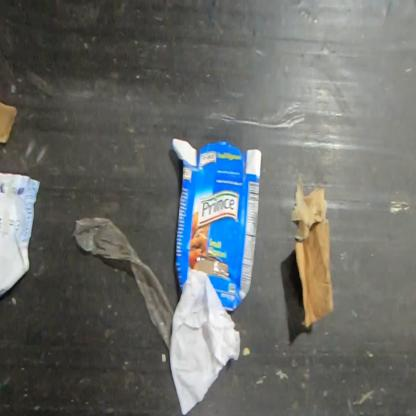cardboard: (171, 137, 262, 312), (291, 173, 335, 330), (0, 228, 31, 298), (0, 97, 19, 146)
soft_plastic: (70, 216, 175, 357)
